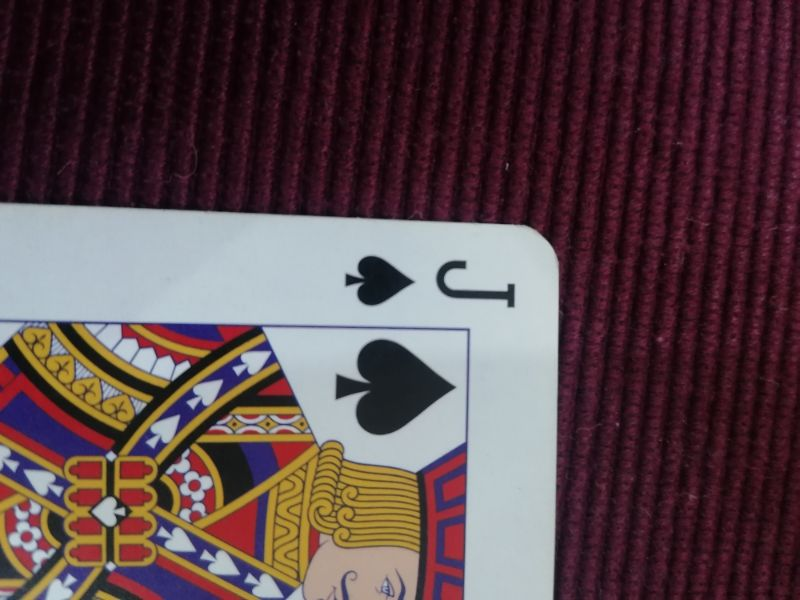Js: (341, 254, 523, 309)
